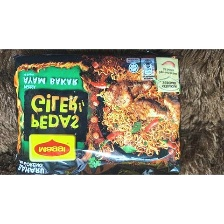snack: (6, 49, 188, 175)
